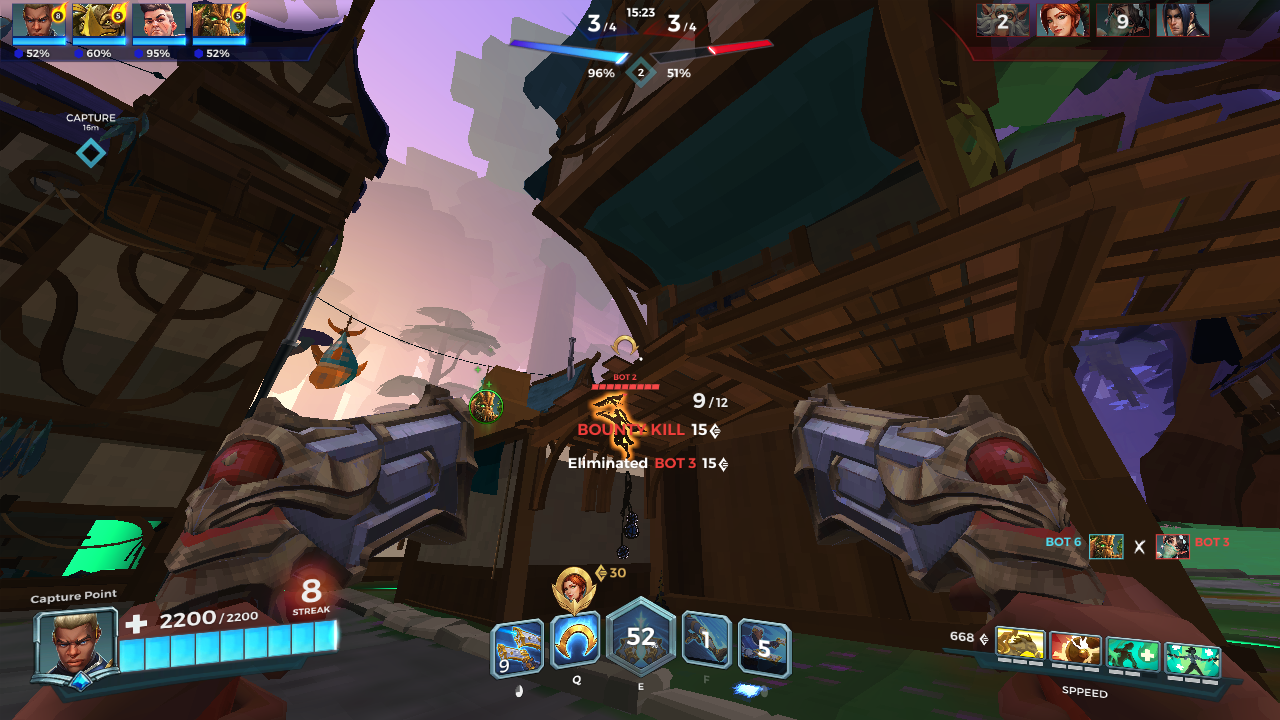model: (585, 393, 648, 458)
